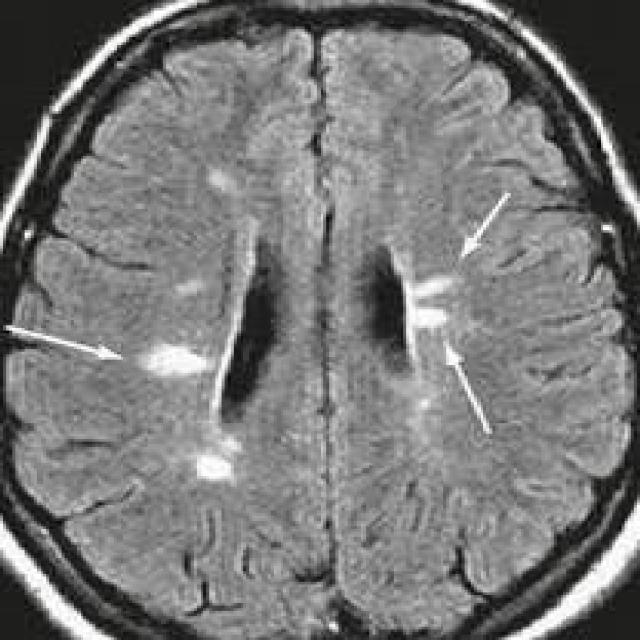notumor: (0, 0, 637, 637)
